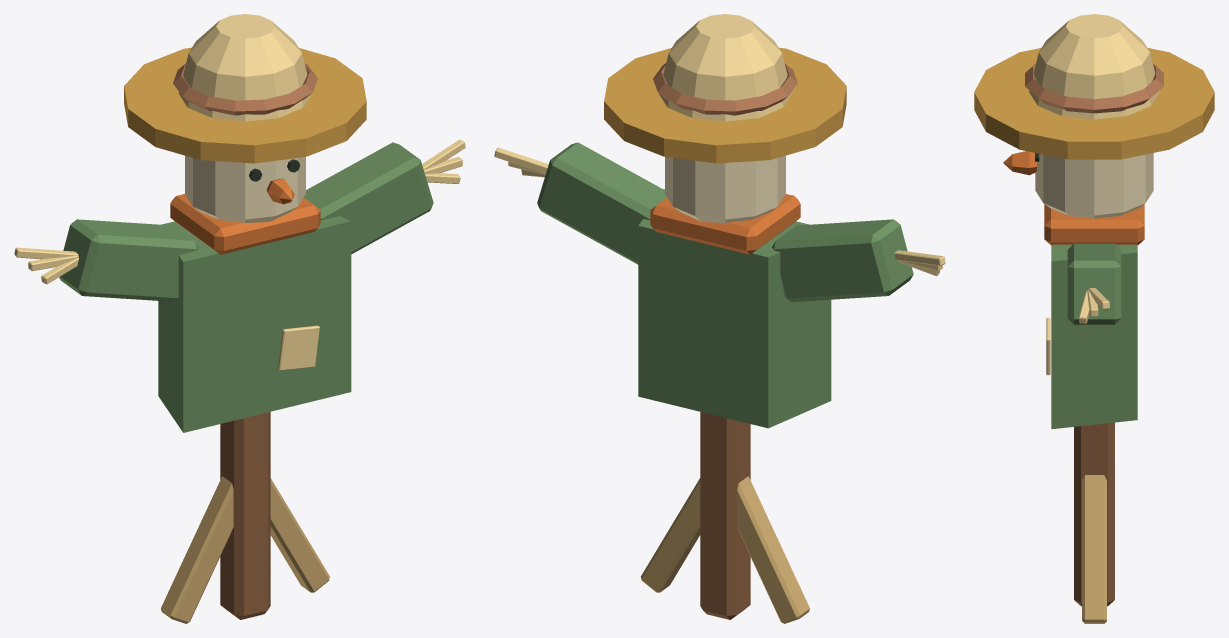
File: 02_Friendly_Scarecrow.glb
The picture shows the model from 3 angles, left to right: view 1: azimuth 30°, elevation 25°; view 2: azimuth 150°, elevation 25°; view 3: azimuth 270°, elevation 25°; orthographic projection.
Visible parts, largest first — view 1: 02_Friendly_Scarecrow__Body; view 2: 02_Friendly_Scarecrow__Body; view 3: 02_Friendly_Scarecrow__Body.
Boxes of the visible parts, bbox=[...] form: 02_Friendly_Scarecrow__Body: bbox=[14, 14, 465, 623]; 02_Friendly_Scarecrow__Body: bbox=[494, 14, 945, 623]; 02_Friendly_Scarecrow__Body: bbox=[974, 14, 1214, 623].
Bounding box in the file's own units: 2.83 × 3.53 × 1.34.
1 material, 1 textured.
